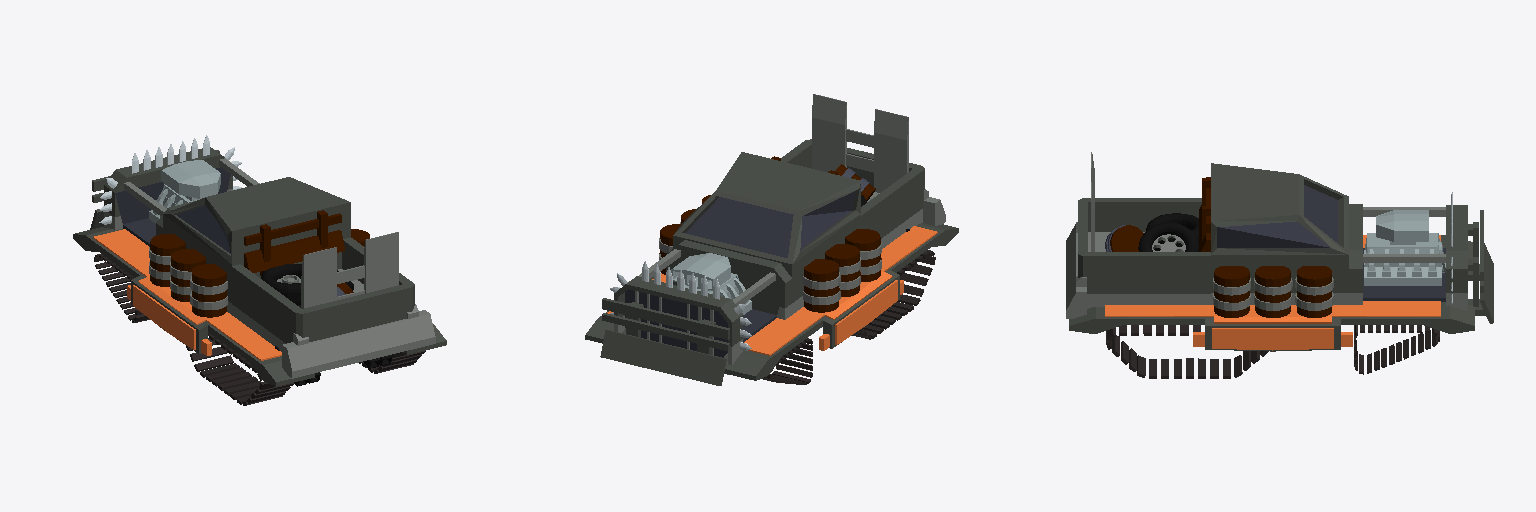
Rendered from post-apocalipticOBJ.obj.
The picture shows the model from 3 angles: view 1: azimuth 30°, elevation 25°; view 2: azimuth 150°, elevation 25°; view 3: azimuth 270°, elevation 25°; orthographic projection.
Parts seen in each view (by area): view 1: 03 Buggy cockpit 01_13, trunk_bed_28, 01 Tank Body Track cover 02_30, detail_bumper_94, 03 Buggy Front 02_15, 03 Car Trailer_43, detail_bullbar_96, 01 Tank Body Tracks 02_29, 03 engine 01_16, 01 Barrel_45, 01 Barrel_47, 01 Barrel_46 (+3 smaller); view 2: 03 Buggy cockpit 01_13, 03 Buggy Front 02_15, 01 Tank Body Track cover 02_30, 02 Car Bumper 01_42, 03 Car Trailer_43, trunk_bed_28, 03 engine 01_16, 01 Tank Body Tracks 02_29, 01 Barrel_47, 01 Barrel_45, 01 Barrel_46, 01 Tank Body Tracks 03_33 (+1 smaller); view 3: 03 Buggy cockpit 01_13, 01 Tank Body Track cover 02_37, trunk_bed_28, 03 Buggy Front 02_15, 03 engine 01_16, 01 Tank Body Tracks 02_39, 02 Car Bumper 01_42, 01 Barrel_49, 01 Barrel_48, 01 Barrel_50, 01 Tank Body Tracks 03_38, detail_bumper_94 (+4 smaller).
Boxes of the visible parts, <box> form: 03 Buggy cockpit 01_13: <box>163,177,350,314</box>; trunk_bed_28: <box>232,237,414,351</box>; 01 Tank Body Track cover 02_30: <box>73,227,314,386</box>; detail_bumper_94: <box>282,304,435,378</box>; 03 Buggy Front 02_15: <box>104,147,259,246</box>; 03 Car Trailer_43: <box>301,232,398,308</box>; detail_bullbar_96: <box>244,210,344,275</box>; 01 Tank Body Tracks 02_29: <box>186,332,294,405</box>; 03 engine 01_16: <box>149,160,220,223</box>; 01 Barrel_45: <box>190,264,227,317</box>; 01 Barrel_47: <box>149,234,185,286</box>; 01 Barrel_46: <box>170,249,205,301</box>; 03 Buggy cockpit 01_13: <box>673,152,860,314</box>; 03 Buggy Front 02_15: <box>614,240,791,374</box>; 01 Tank Body Track cover 02_30: <box>724,223,958,380</box>; 02 Car Bumper 01_42: <box>600,298,729,385</box>; 03 Car Trailer_43: <box>812,94,908,192</box>; trunk_bed_28: <box>781,139,924,248</box>; 03 engine 01_16: <box>671,253,751,314</box>; 01 Tank Body Tracks 02_29: <box>852,250,935,339</box>; 01 Barrel_47: <box>803,259,840,312</box>; 01 Barrel_45: <box>845,229,881,281</box>; 01 Barrel_46: <box>825,244,860,296</box>; 01 Tank Body Tracks 03_33: <box>762,338,812,384</box>; 03 Buggy cockpit 01_13: <box>1211,163,1348,304</box>; 01 Tank Body Track cover 02_37: <box>1069,301,1474,351</box>; trunk_bed_28: <box>1078,198,1210,308</box>; 03 Buggy Front 02_15: <box>1349,204,1467,310</box>; 03 engine 01_16: <box>1364,210,1445,285</box>; 01 Tank Body Tracks 02_39: <box>1106,325,1268,378</box>; 02 Car Bumper 01_42: <box>1468,210,1493,323</box>; 01 Barrel_49: <box>1254,266,1292,317</box>; 01 Barrel_48: <box>1295,266,1333,317</box>; 01 Barrel_50: <box>1213,266,1250,317</box>; 01 Tank Body Tracks 03_38: <box>1354,325,1439,374</box>; detail_bumper_94: <box>1066,222,1086,318</box>.
Size of the model in its own units: 1.61 by 1.3 by 3.11.